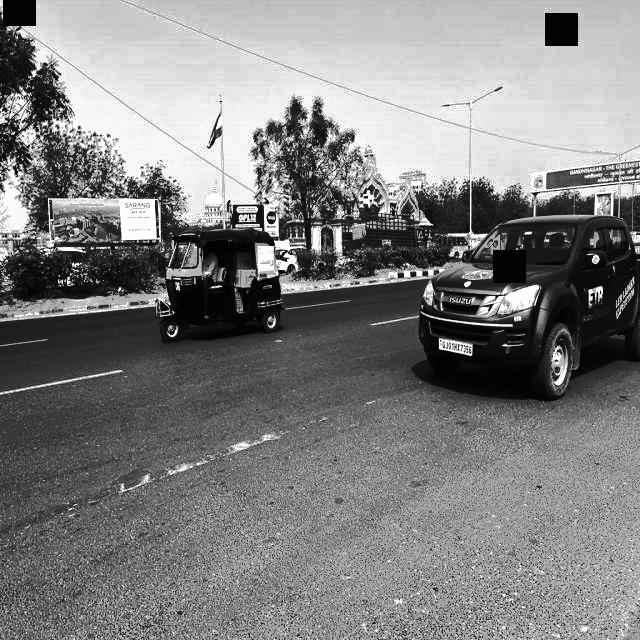Auto-Rickshaw: (163, 224, 285, 339)
Car: (420, 210, 640, 397)
